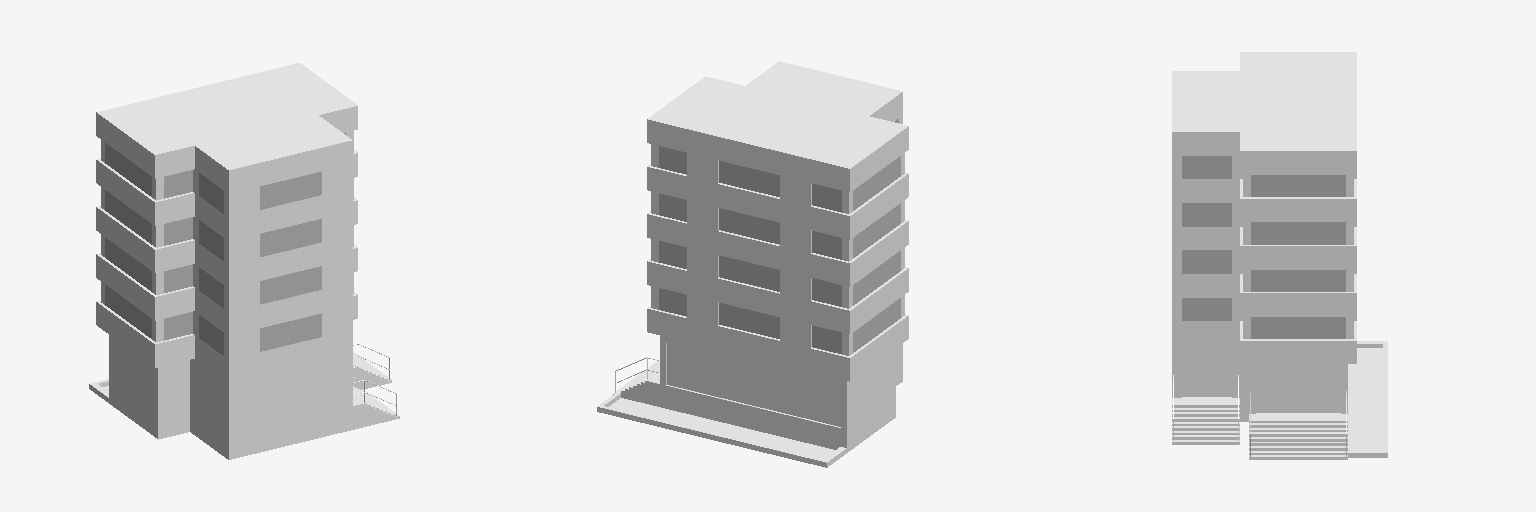
File: school01.obj
3 views of the same model, side by side, from view 1: azimuth 30°, elevation 25°; view 2: azimuth 150°, elevation 25°; view 3: azimuth 270°, elevation 25° (orthographic).
Parts seen in each view (by area): view 1: predio_comercial_polySurface1_edficio_comercial.1.1; view 2: predio_comercial_polySurface1_edficio_comercial.1.1, predio_comercial_edficio_comercial_polySurface2; view 3: predio_comercial_polySurface1_edficio_comercial.1.1, predio_comercial_edficio_comercial_polySurface2.
Part boxes in pixels (bbox=[...]): predio_comercial_polySurface1_edficio_comercial.1.1: bbox=[89, 63, 399, 459]; predio_comercial_polySurface1_edficio_comercial.1.1: bbox=[597, 61, 908, 467]; predio_comercial_edficio_comercial_polySurface2: bbox=[609, 398, 834, 458]; predio_comercial_polySurface1_edficio_comercial.1.1: bbox=[1172, 52, 1387, 459]; predio_comercial_edficio_comercial_polySurface2: bbox=[1348, 348, 1382, 450].
Bounding box in the file's own units: 1189 × 1361 × 920.